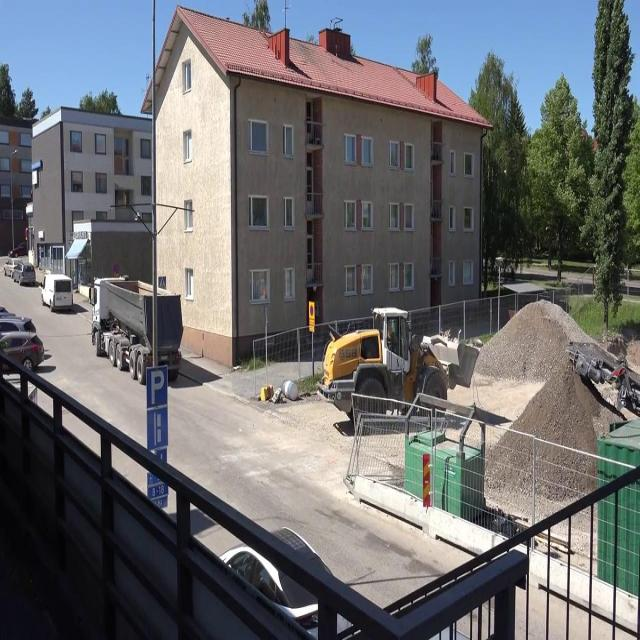Dump Truck: (85, 273, 185, 387)
Loader: (317, 302, 481, 428)
